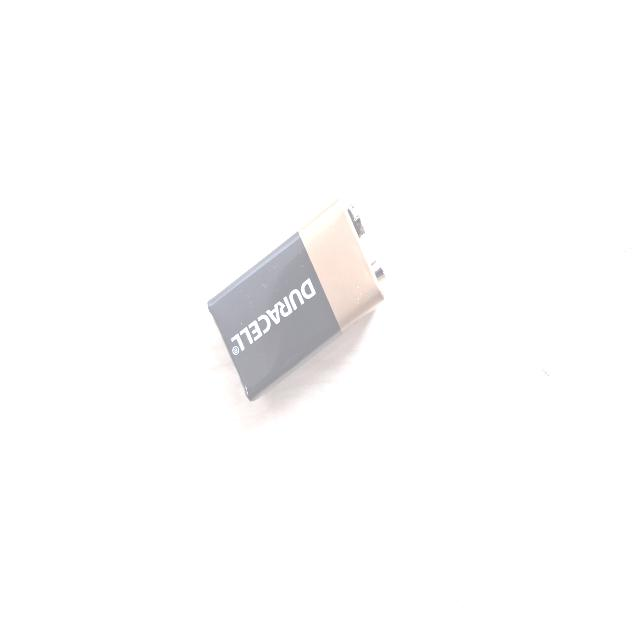9V: (148, 338, 302, 574)
